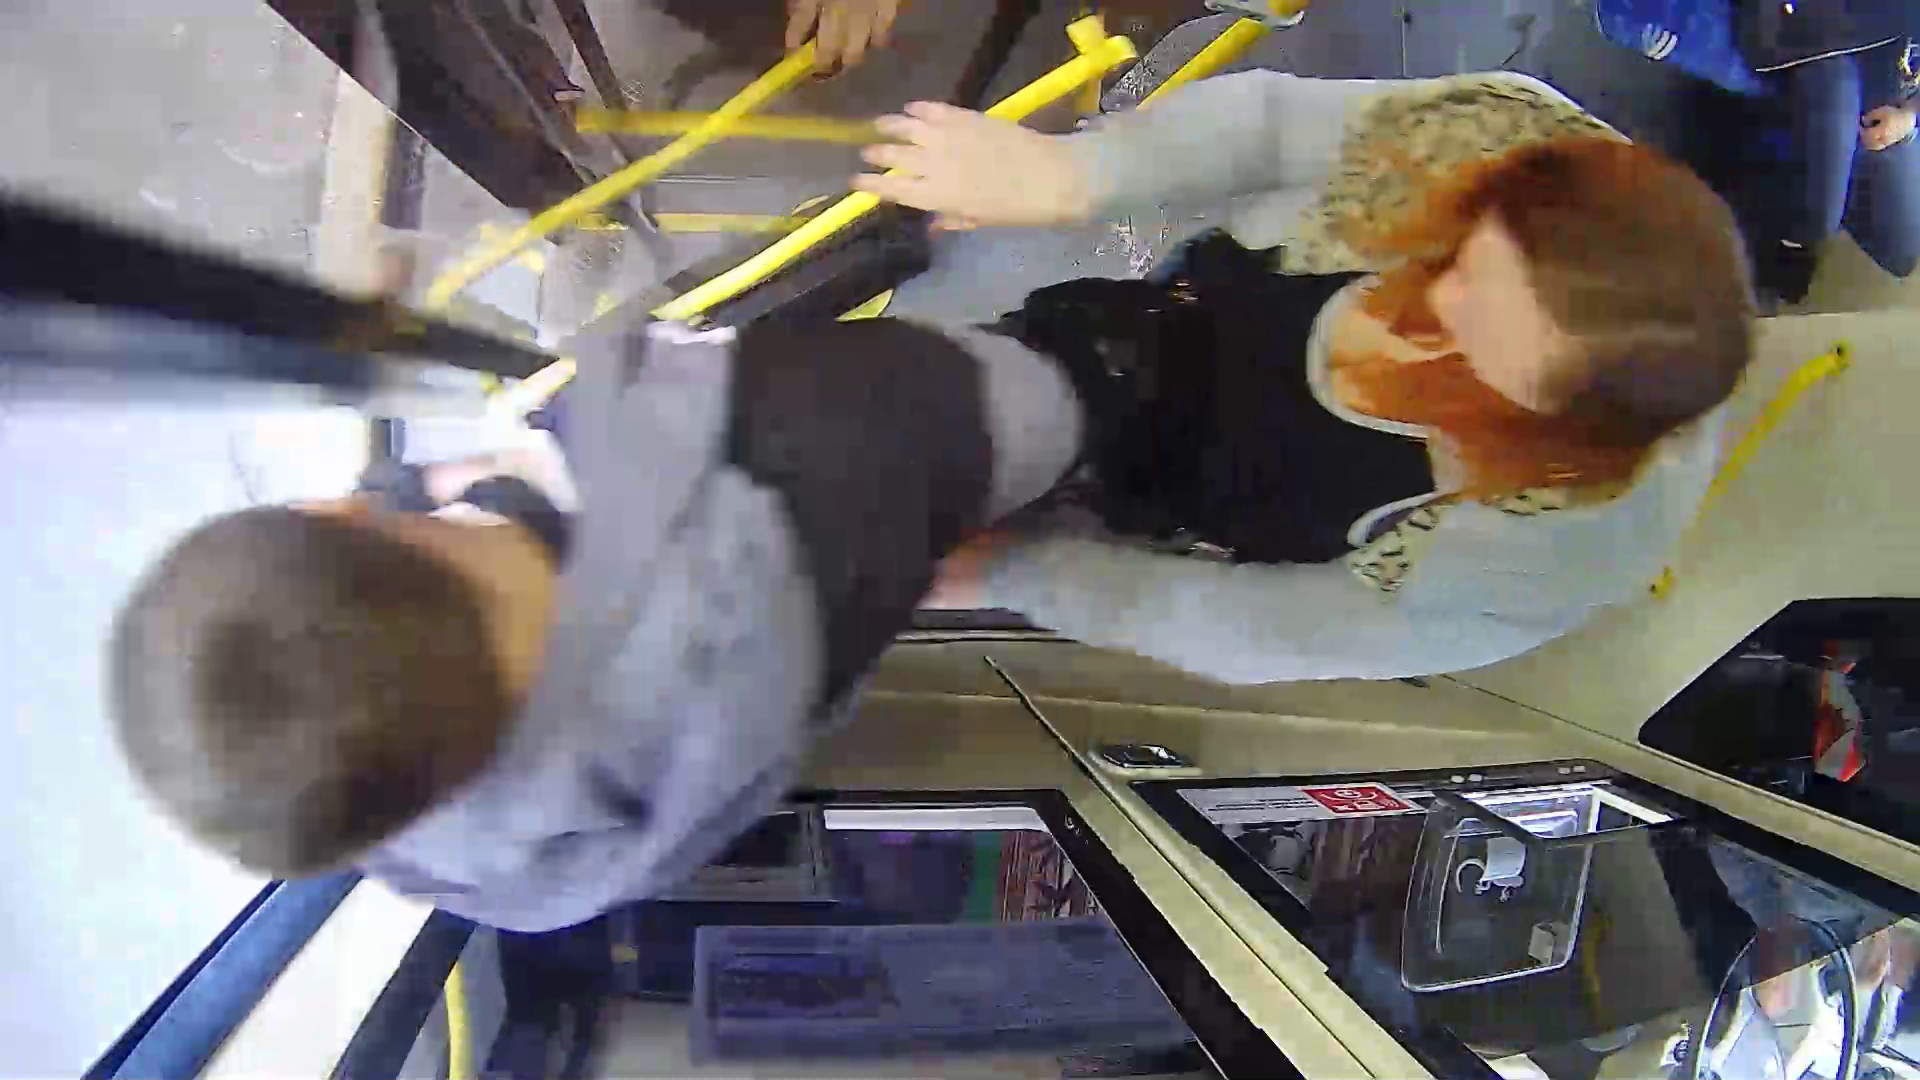person: (889, 55, 1795, 686), (79, 270, 979, 901)
